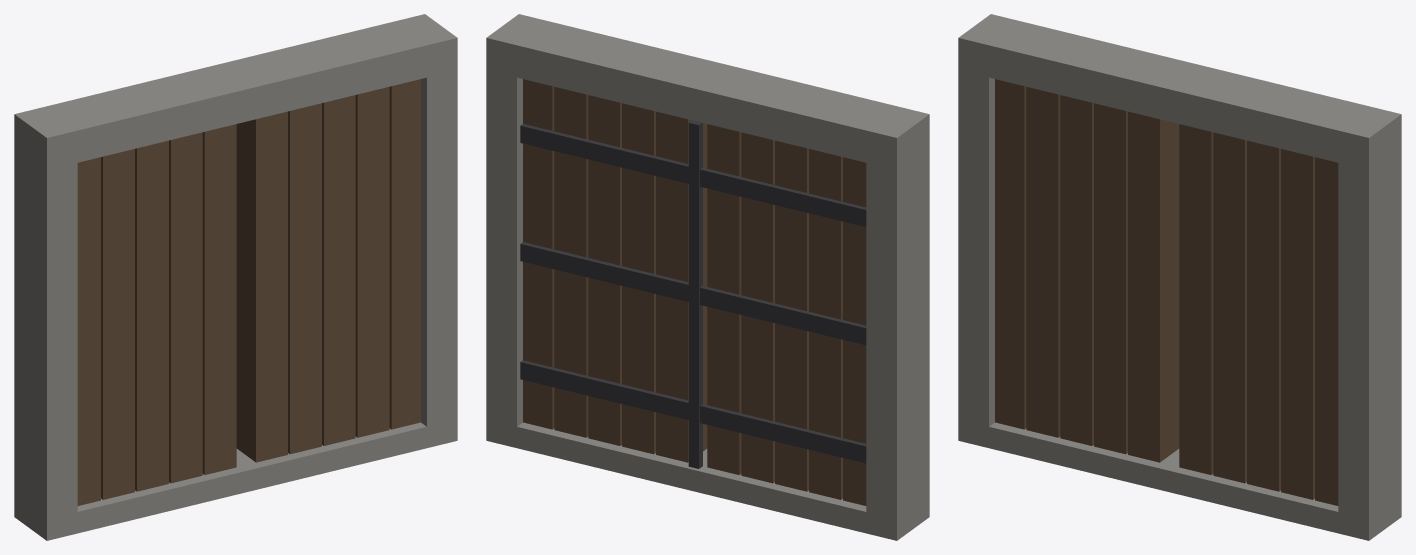
The model's file is 1-gate.glb.
The picture shows the model from 3 angles, left to right: view 1: azimuth 30°, elevation 25°; view 2: azimuth 150°, elevation 25°; view 3: azimuth 330°, elevation 25°; orthographic projection.
Parts seen in each view (by area): view 1: gate; view 2: gate; view 3: gate.
Boxes of the visible parts, box(x1,y1,x2,y2) form: gate: box(14, 14, 457, 540); gate: box(486, 14, 929, 540); gate: box(958, 14, 1401, 540).
Size of the model in its own units: 4 by 3.75 by 0.55.
